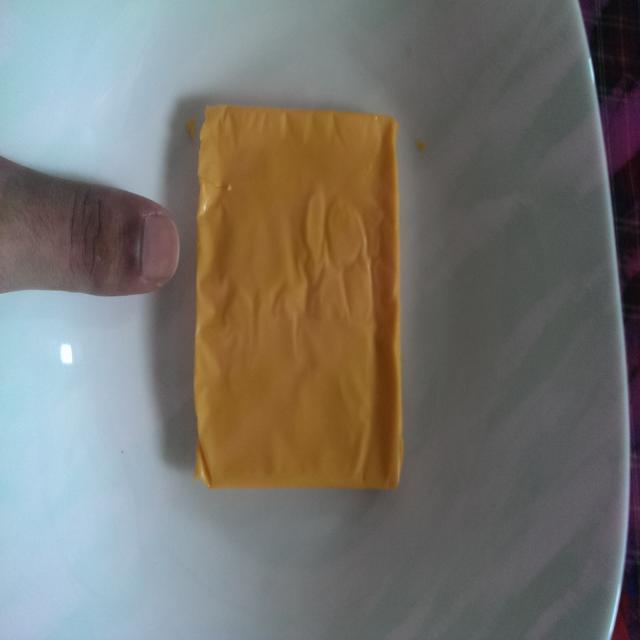Cheese: (186, 98, 422, 502)
Finger: (26, 166, 186, 312)
